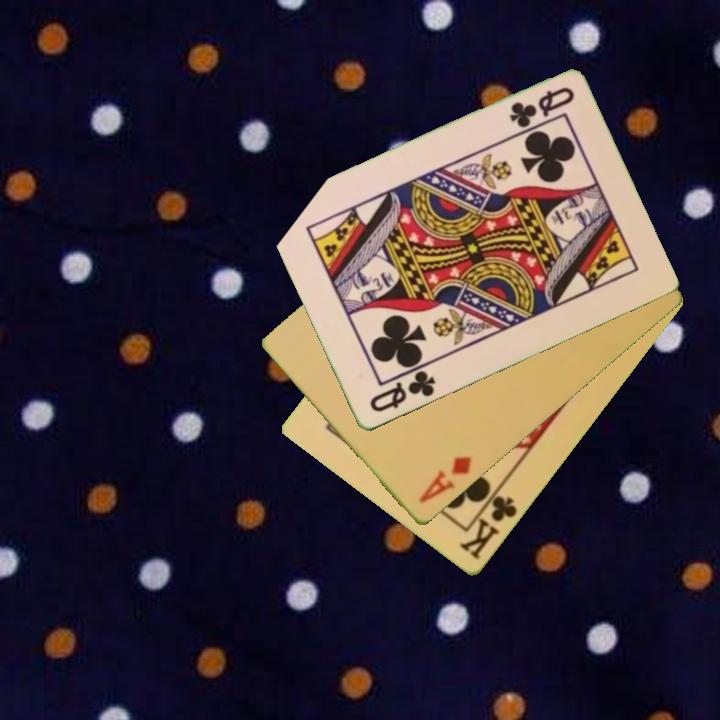Ad: (415, 453, 475, 507)
Kc: (456, 483, 521, 563)
Qc: (366, 367, 439, 416), (505, 84, 578, 132)
